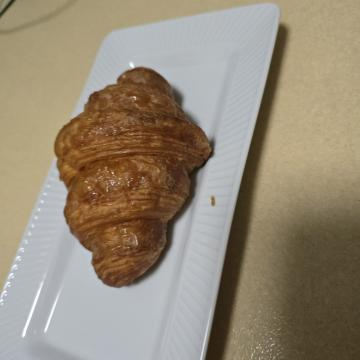croissant: (56, 139, 298, 317)
